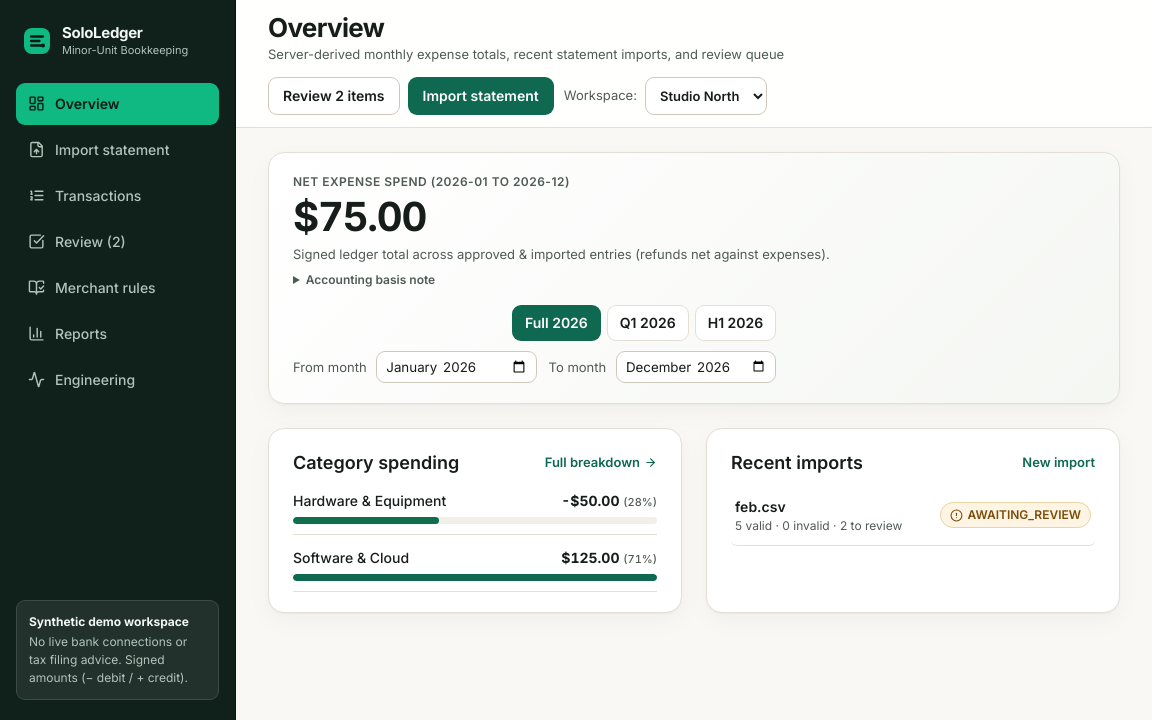
Test: SoloLedger 8 routes integration UI tests › /dashboard renders populated report totals, negative refunds, and Review CTA
The image size is (1152, 720).
Expected: the text with test id "dashboard-net-spend" reads "$75.00", [293, 192, 426, 241]
Expected: the link "Review 2 items" is shown, [268, 77, 400, 115]
Click the button "Q1 2026" at (648, 323), box [607, 305, 689, 341]
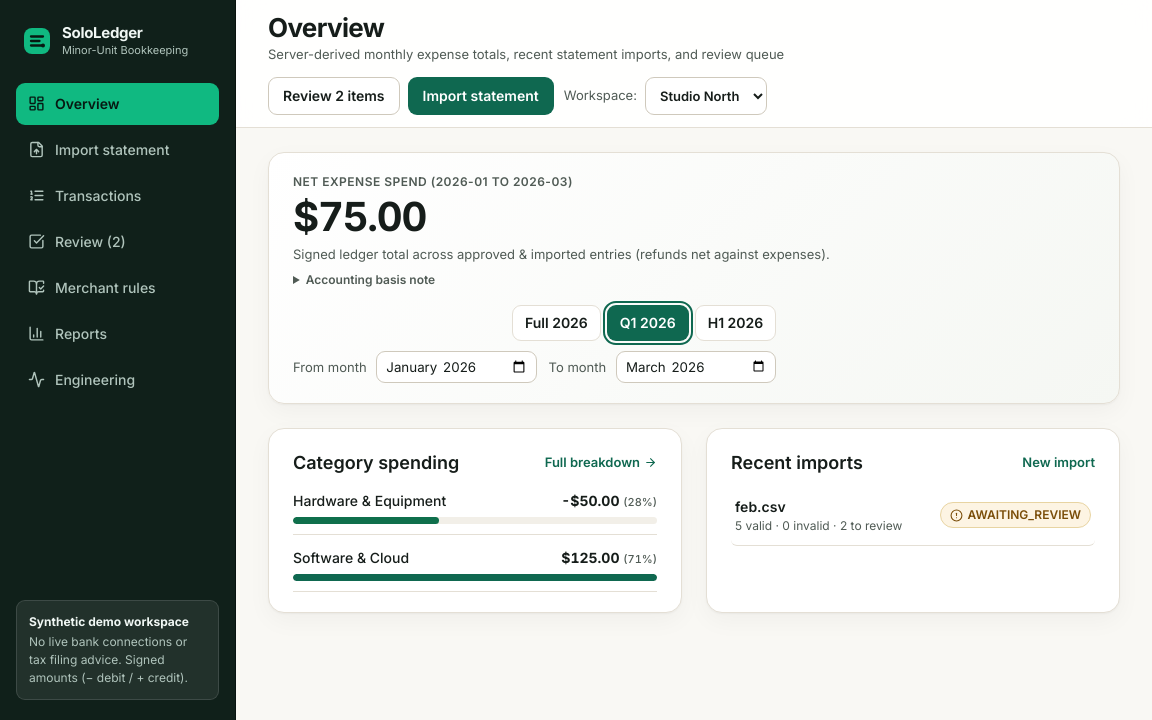
Expected: the field labelled "From month" holds "2026-01", [376, 351, 537, 383]
Expected: the field labelled "To month" holds "2026-03", [616, 351, 776, 383]
